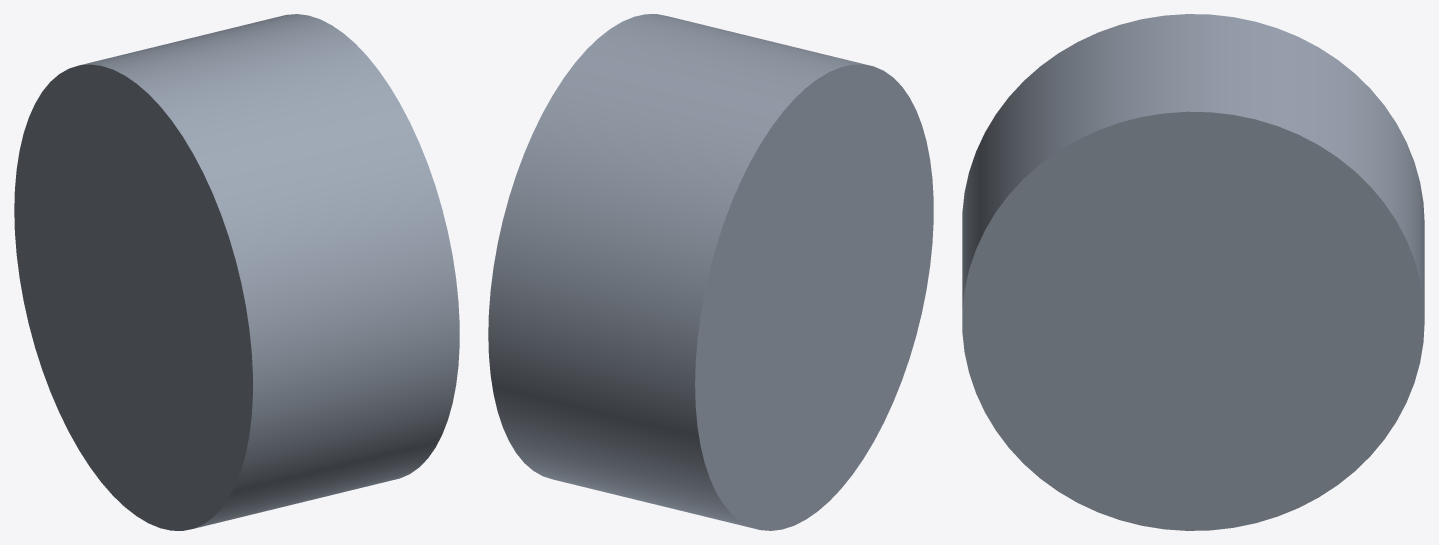
File: m0_magnet.glb
3 renders of one model, left to right at view 1: azimuth 30°, elevation 25°; view 2: azimuth 150°, elevation 25°; view 3: azimuth 270°, elevation 25°, orthographic. The views are drawn at different scales.
Parts seen in each view (by area): view 1: part_0; view 2: part_0; view 3: part_0.
Part boxes in pixels (x1,y1,x2,y2): part_0: (14,14,459,530); part_0: (488,14,933,530); part_0: (962,14,1424,530).
Size of the model in its own units: 3 by 6 by 6.
